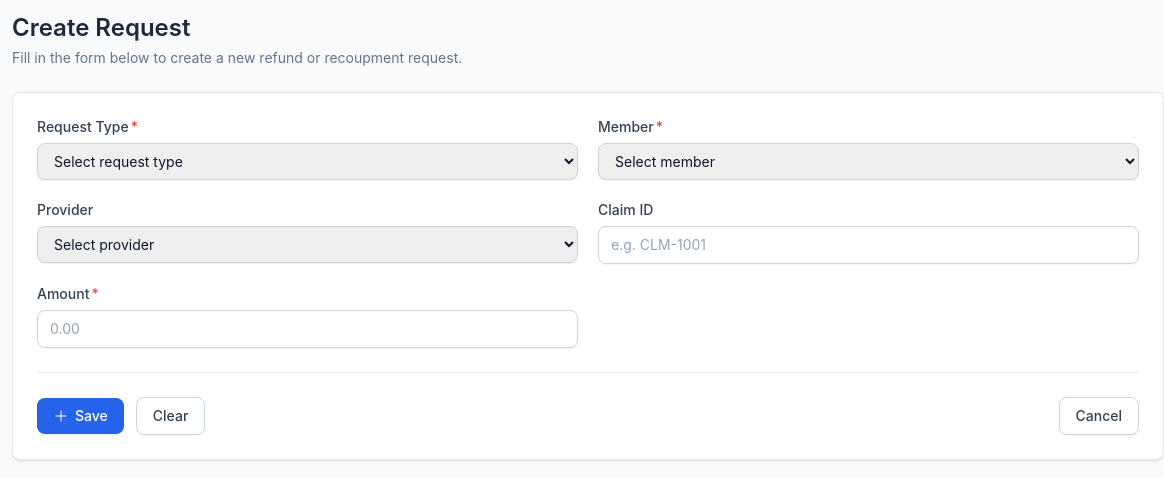
Test: CreateEditRequest › create mode - clear and cancel › clears form fields when Clear button is clicked
Select "Refund" in the dropdown labelled "Request Type*" at (308, 162), box [37,143,578,180]
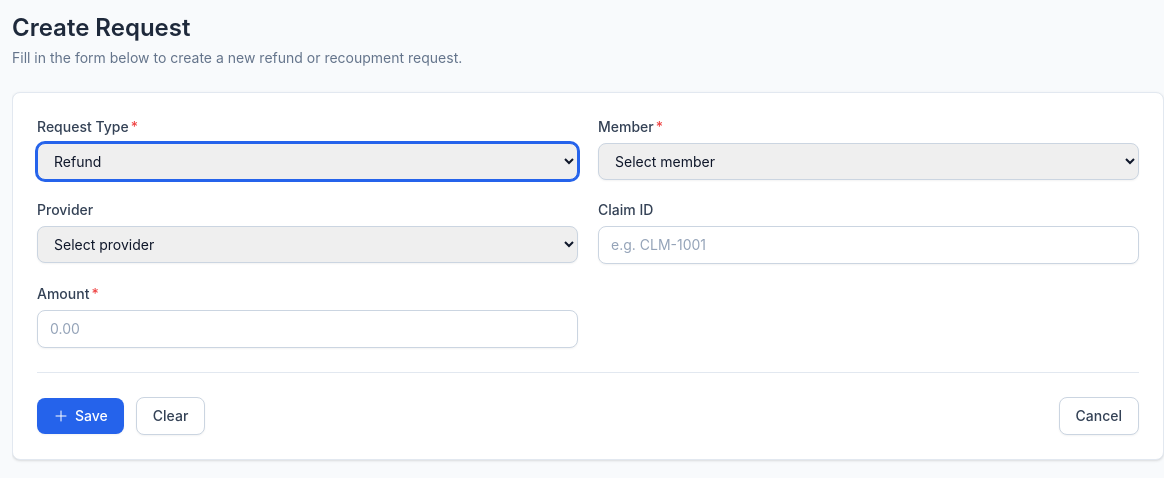
Type "500" into the number field labelled "Amount*" at (308, 329), box [37,310,578,348]
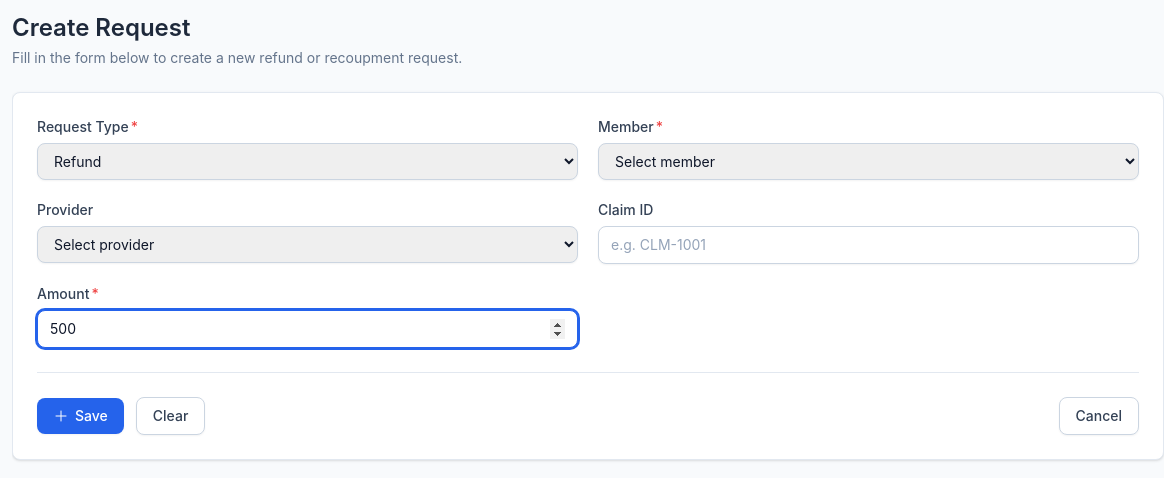
Click the button "Clear" at (171, 416), box [136,397,205,435]
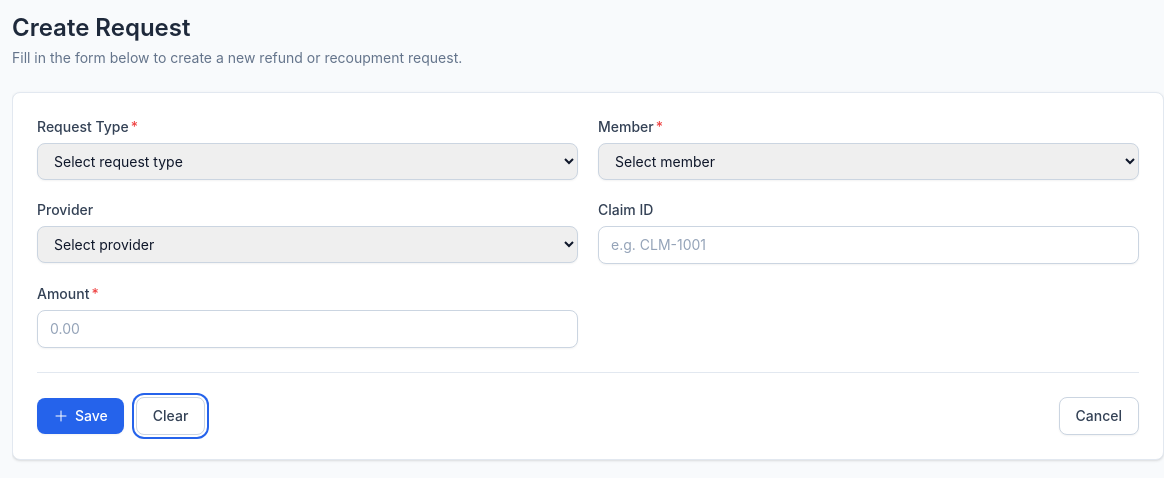
Now the number field labelled "Amount*" is empty, box [37,310,578,348]
